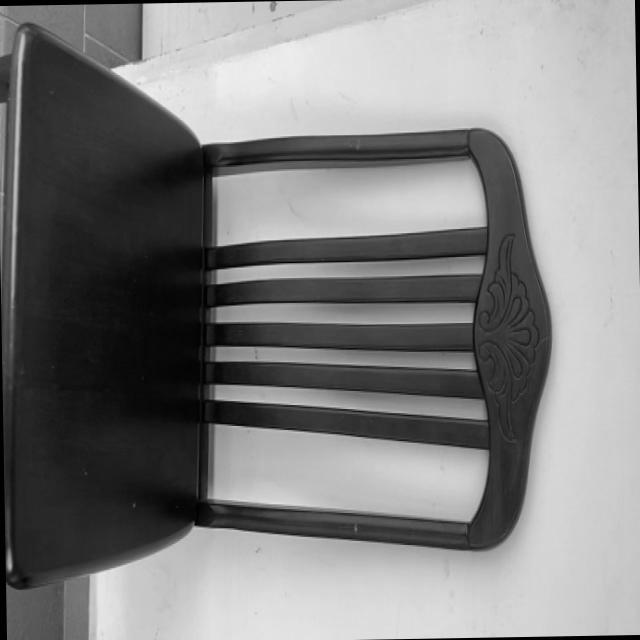chair: (0, 5, 561, 595)
